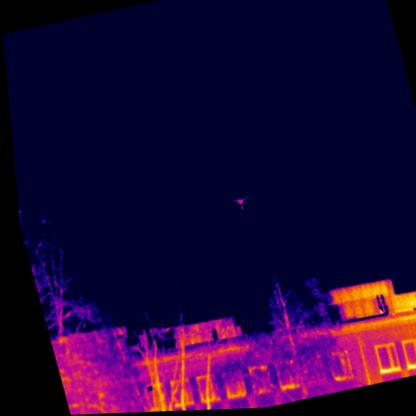drone: (228, 196, 246, 212)
